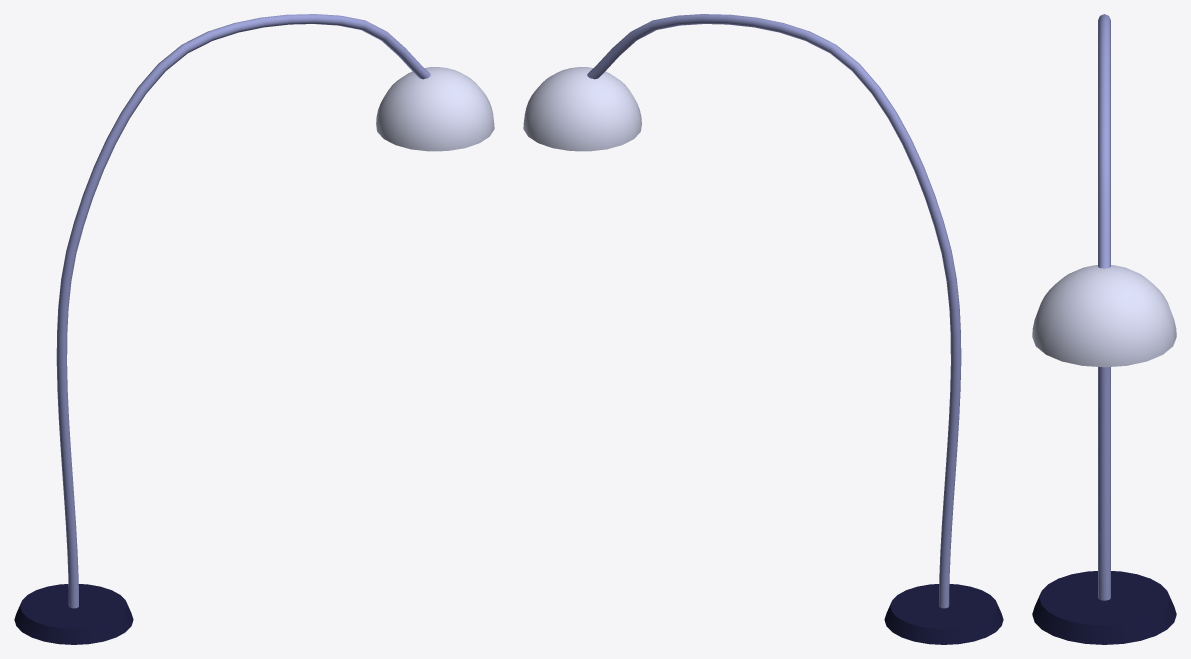
File: arcLamp.glb
3 renders of one model, left to right at view 1: azimuth 30°, elevation 25°; view 2: azimuth 150°, elevation 25°; view 3: azimuth 270°, elevation 25°, orthographic. The views are drawn at different scales.
Visible parts, largest first — view 1: arc, shade, base; view 2: arc, shade, base; view 3: shade, base, arc.
Boxes of the visible parts, <box> form: arc: <box>56,14,430,608</box>; shade: <box>376,67,494,151</box>; base: <box>14,584,133,644</box>; arc: <box>587,14,961,608</box>; shade: <box>523,67,641,151</box>; base: <box>884,584,1003,644</box>; shade: <box>1032,265,1176,367</box>; base: <box>1032,571,1176,644</box>; arc: <box>1098,14,1110,600</box>.
Size of the model in its own units: 1.8 by 2.06 by 0.4.
